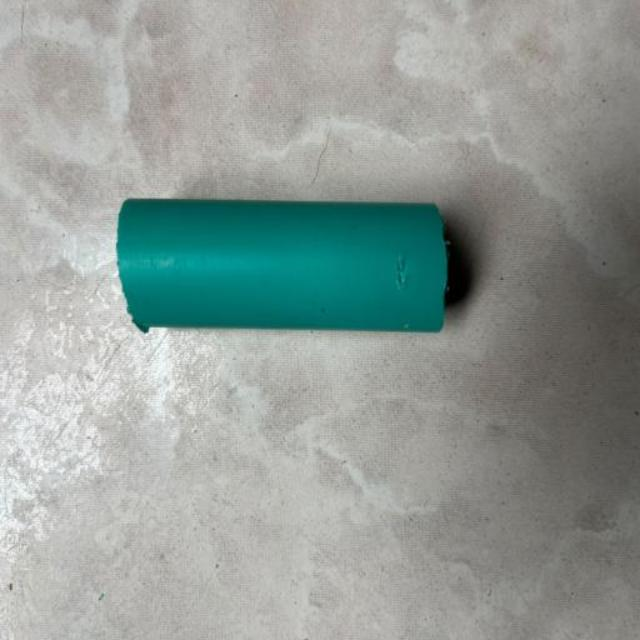PVC: (112, 178, 498, 371)
